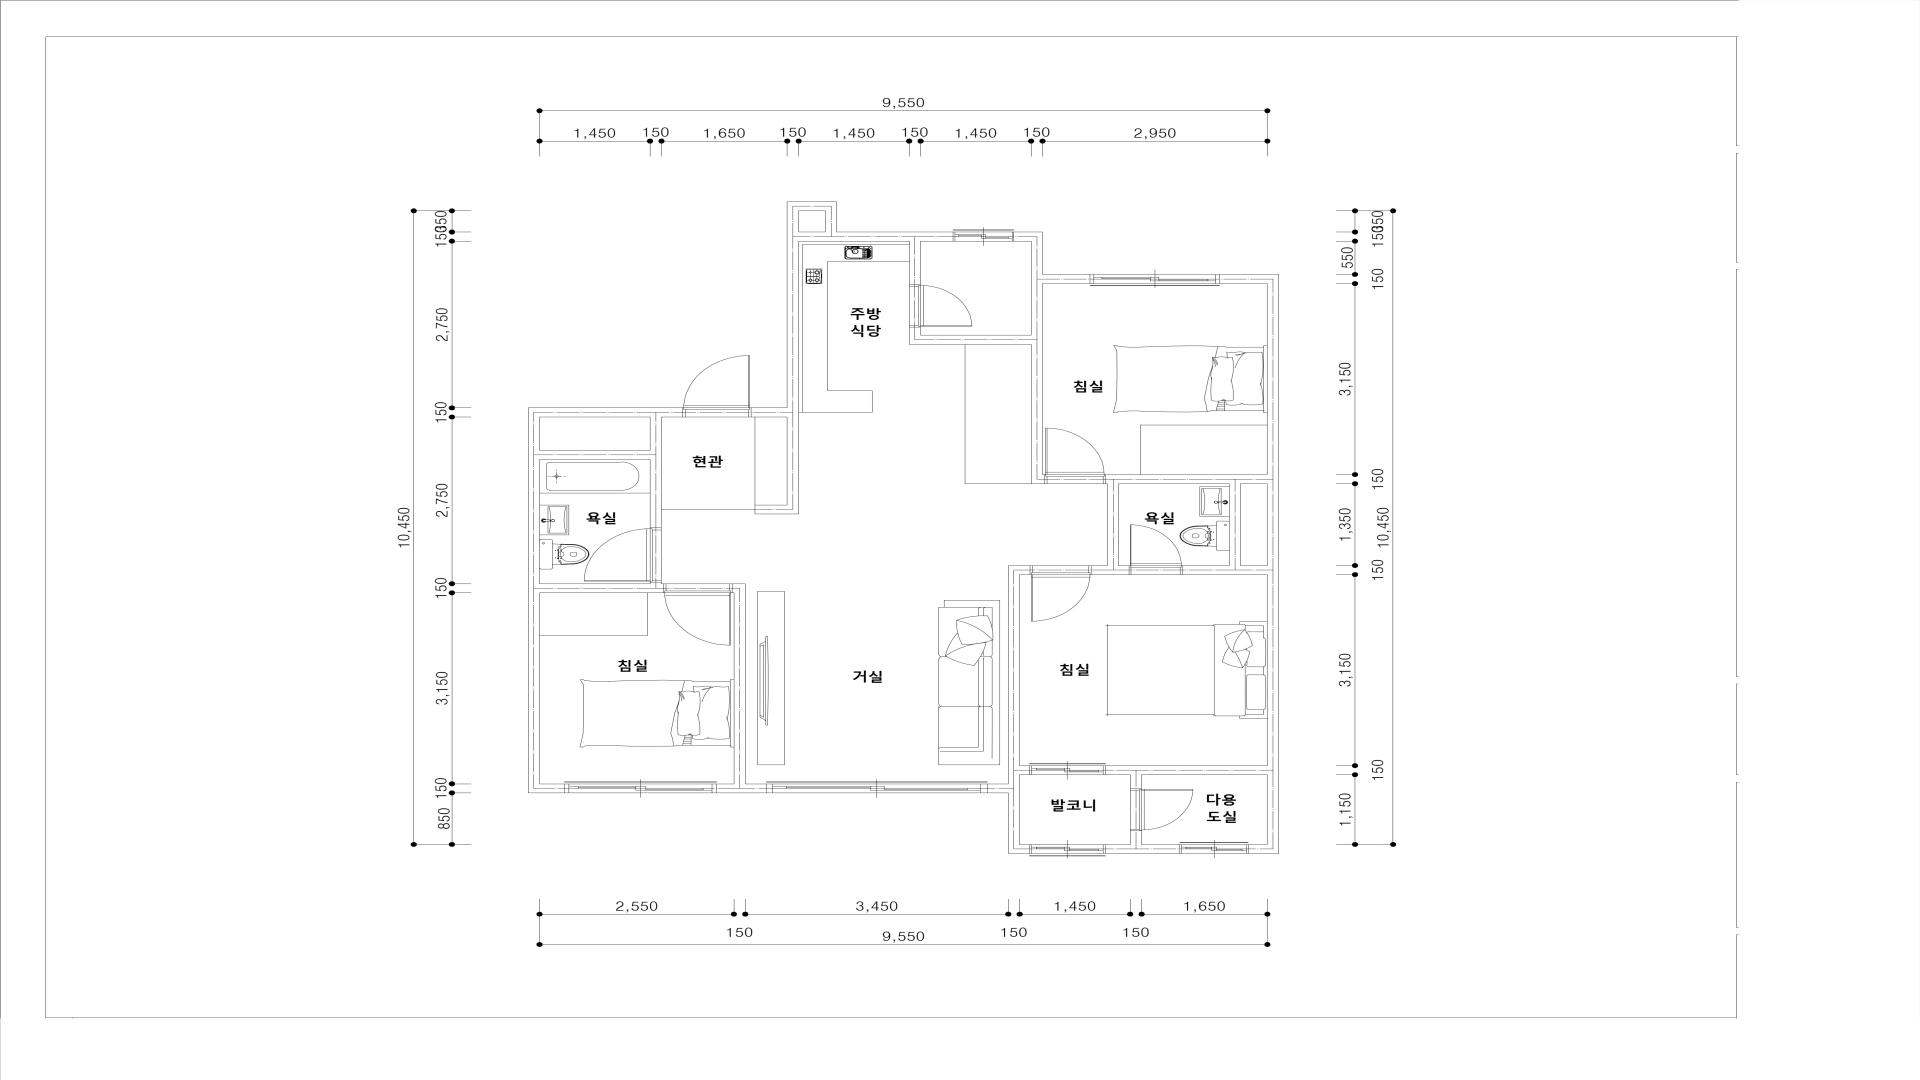door: (583, 527, 662, 583), (663, 584, 732, 646), (683, 355, 752, 417), (1044, 427, 1105, 484), (1030, 566, 1091, 621), (909, 285, 975, 327), (1129, 524, 1183, 575), (1030, 766, 1105, 775)
wall: (527, 407, 683, 593), (1220, 274, 1279, 566), (539, 417, 662, 527), (716, 584, 766, 793), (787, 202, 837, 407), (1247, 566, 1279, 853), (909, 284, 1043, 344), (1183, 484, 1267, 575), (527, 593, 564, 793), (750, 407, 799, 514), (1007, 566, 1030, 785), (1014, 232, 1091, 284), (1091, 475, 1129, 575), (1105, 766, 1267, 789), (988, 783, 1030, 853), (1031, 344, 1044, 484), (1105, 831, 1180, 853), (539, 582, 663, 593), (799, 232, 953, 241), (1118, 475, 1267, 484), (909, 241, 920, 285)
window: (766, 783, 988, 793), (564, 783, 716, 793), (1091, 274, 1220, 284), (1030, 844, 1105, 853), (1180, 844, 1247, 853), (953, 232, 1014, 241)
